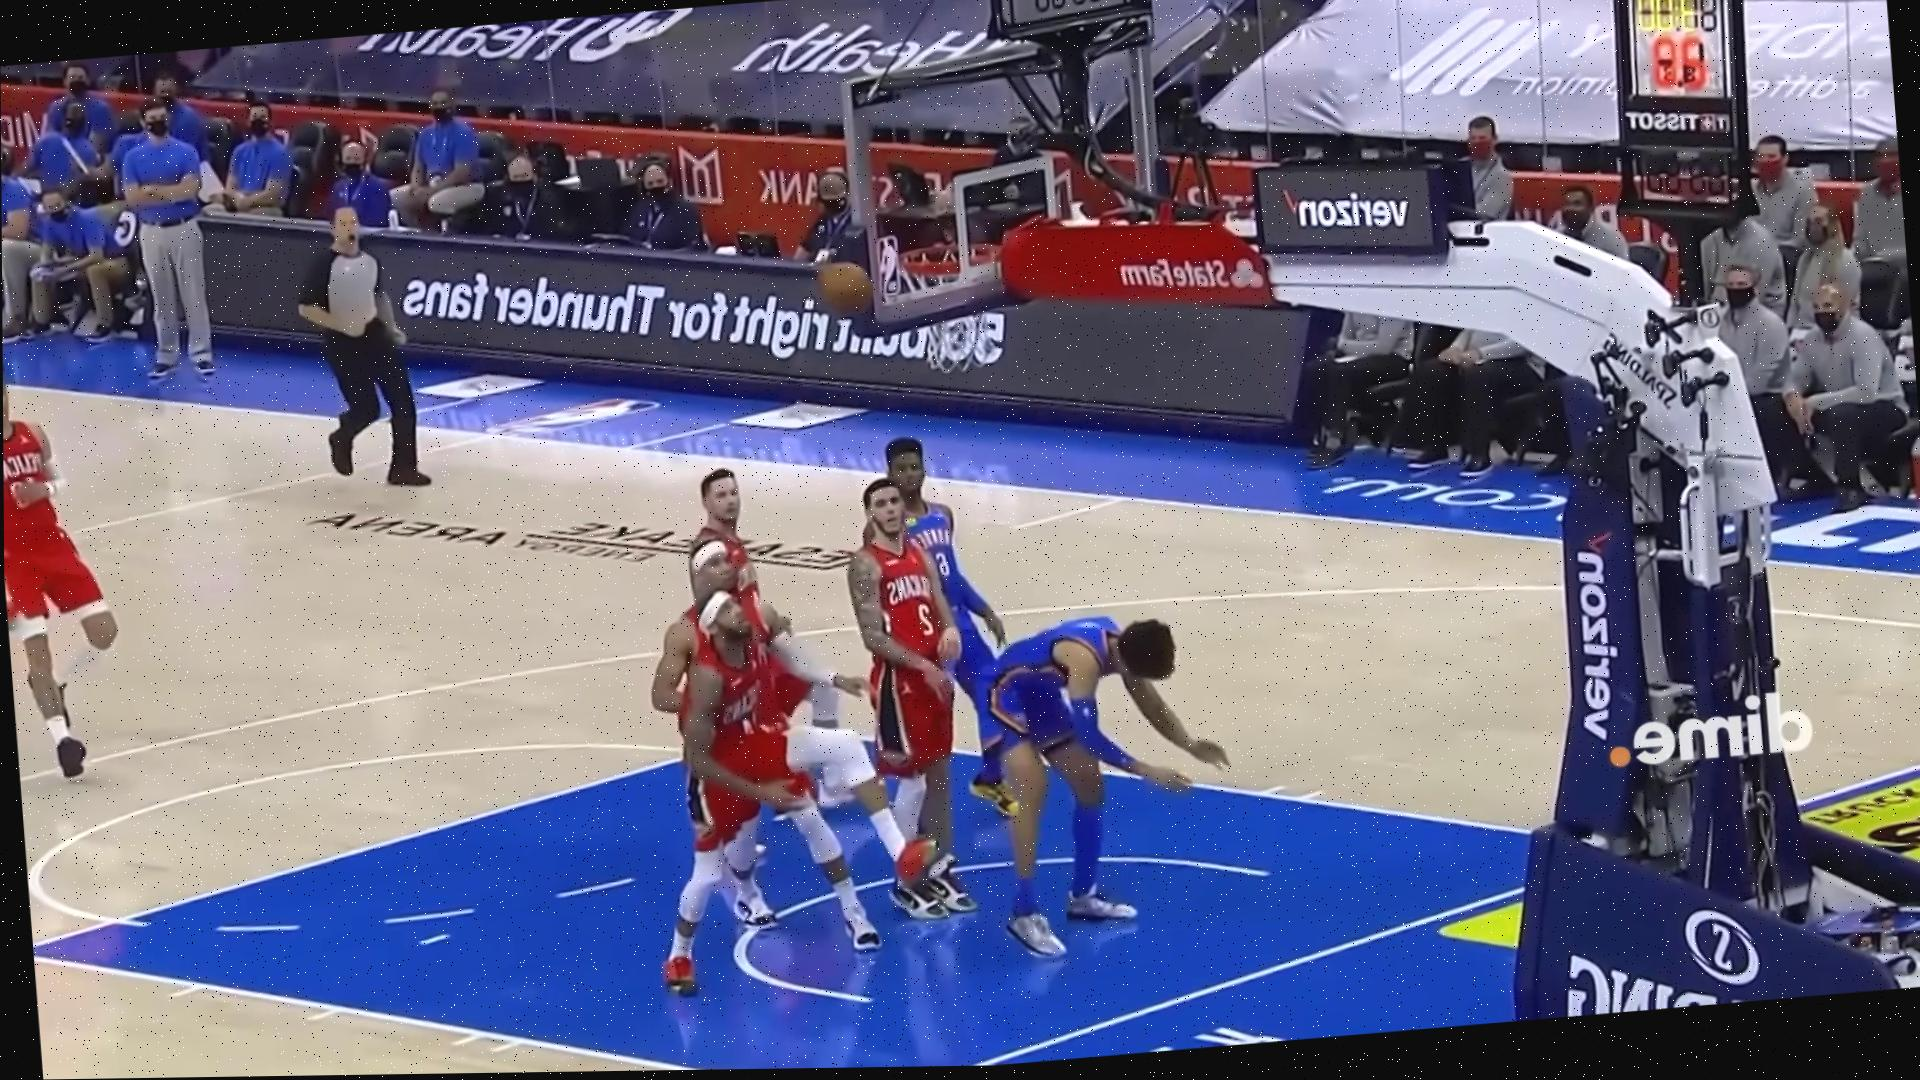no_foul: (869, 514, 1269, 971)
